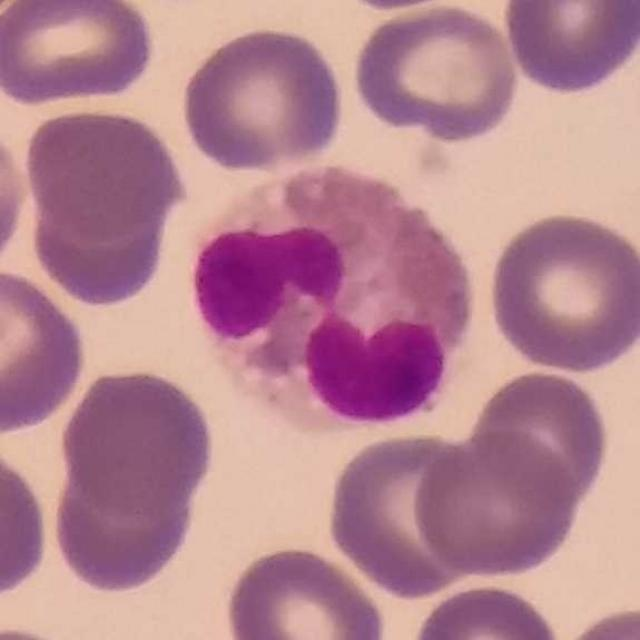eosino: (190, 167, 473, 440)
